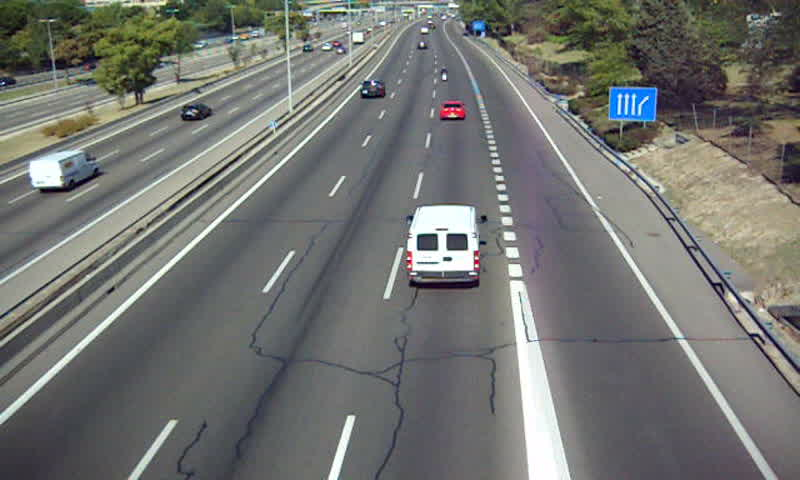car: (440, 101, 466, 120), (362, 78, 385, 98)
motorcycle: (438, 66, 451, 80)
van: (407, 205, 480, 283)
